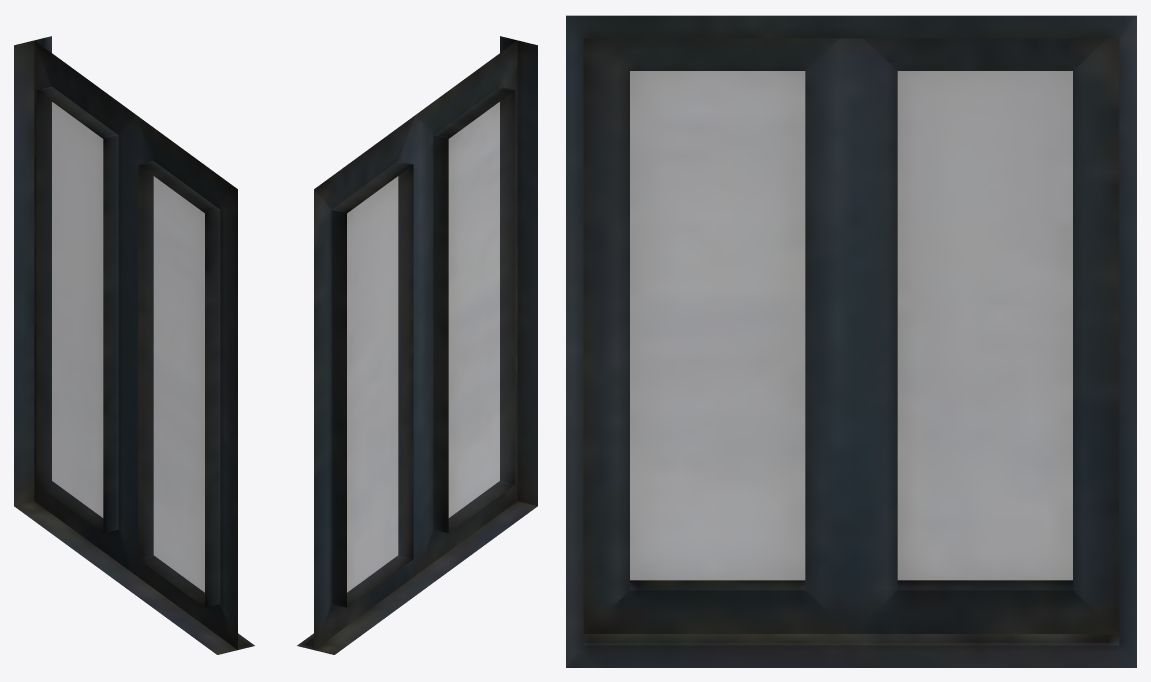
File: DoubleWindow_02.FBX
3 views of the same model, side by side, from view 1: azimuth 30°, elevation 25°; view 2: azimuth 150°, elevation 25°; view 3: azimuth 270°, elevation 25° (orthographic). The views are drawn at different scales.
Visible parts, largest first — view 1: DoubleWindow_02; view 2: DoubleWindow_02; view 3: DoubleWindow_02.
Part boxes in pixels (bbox=[...]): DoubleWindow_02: bbox=[14, 36, 254, 654]; DoubleWindow_02: bbox=[297, 36, 537, 654]; DoubleWindow_02: bbox=[566, 15, 1136, 667].
Size of the model in its own units: 13.82 by 172 by 137.
